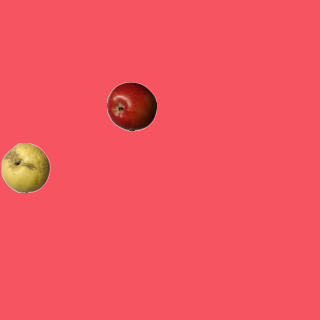Apple Braeburn: (106, 81, 156, 131)
Apple Golden 1: (0, 142, 50, 192)
